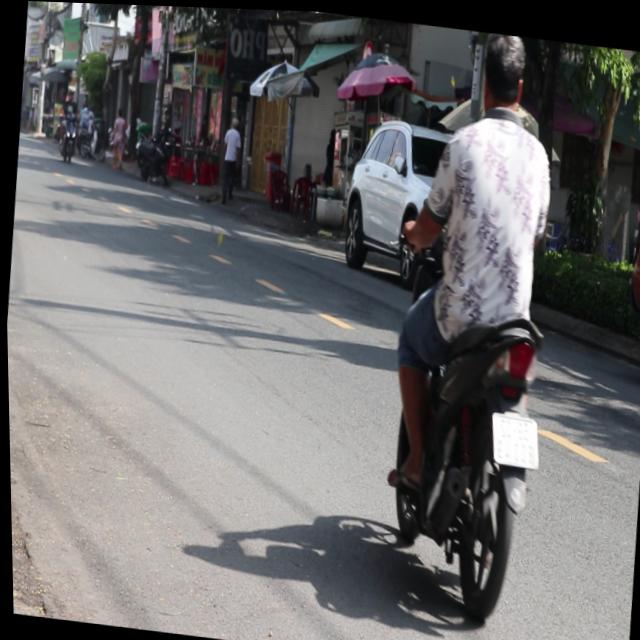licenseplate: (359, 17, 581, 625)
motorcyclist: (475, 27, 531, 114)
nohelmet: (486, 406, 539, 462)
